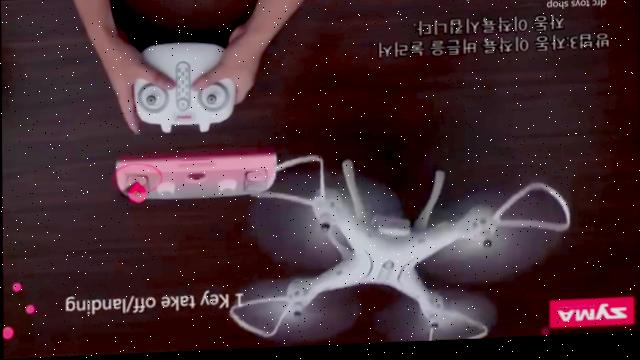drone: (229, 148, 574, 352)
